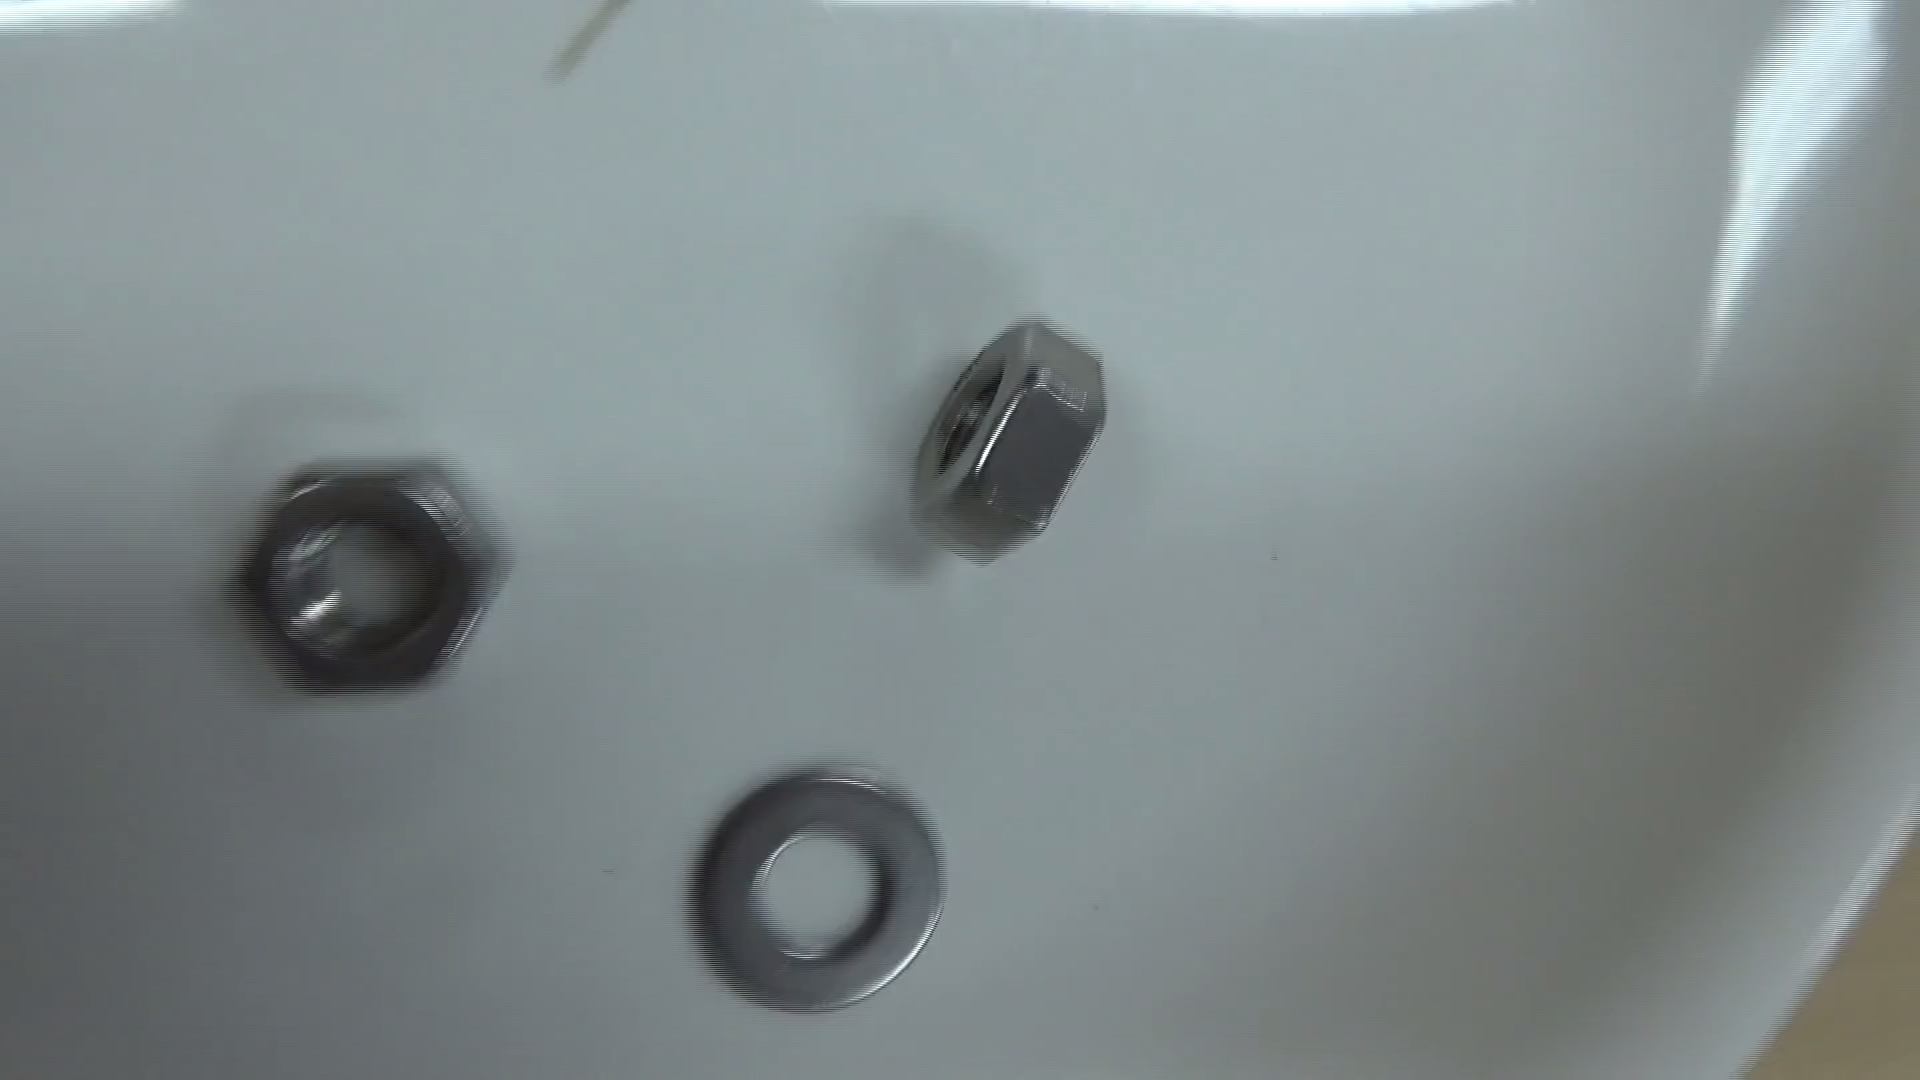nut: (228, 455, 502, 707), (895, 302, 1122, 572)
washer: (671, 746, 960, 1027)
